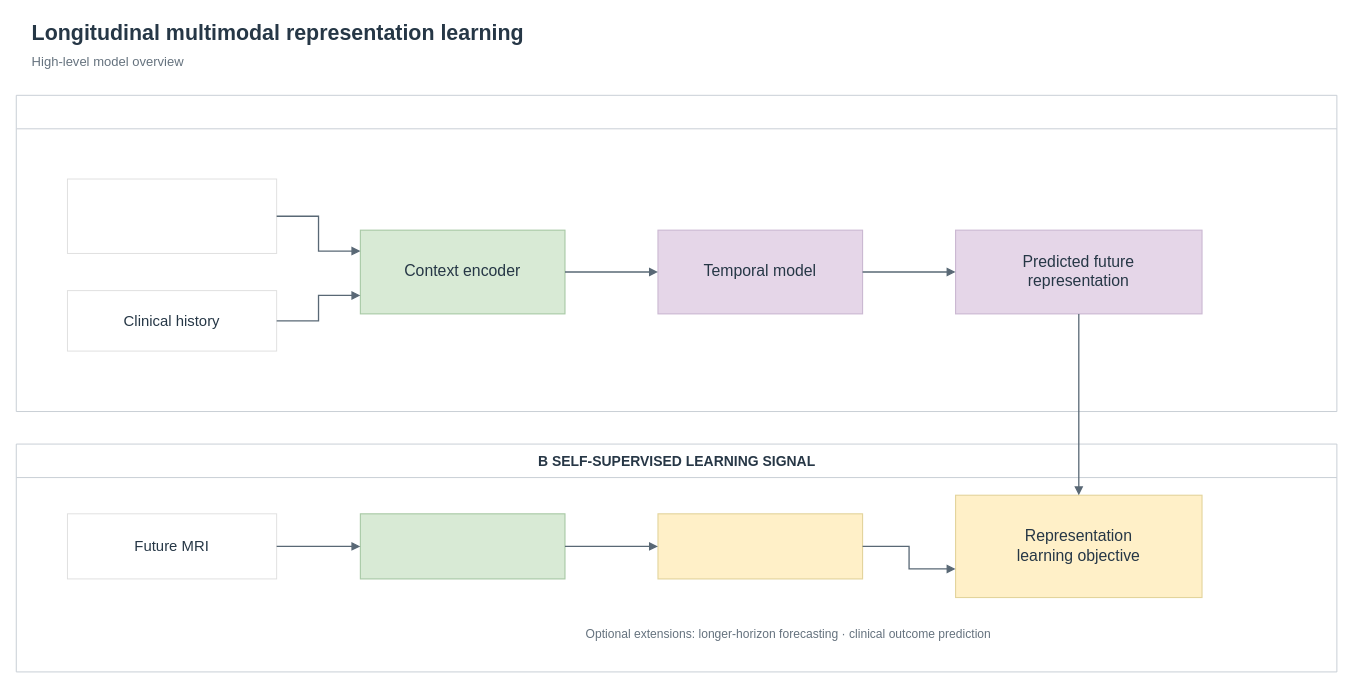
This 1353x688 diagram has some shape labels left out. Each missing label, with the box of its shape:
A CONTEXT AND PREDICTION: (15, 94, 1337, 412)
EMA target encoder: (359, 513, 565, 579)
Longitudinal MRI history: (66, 178, 277, 253)
Target representation: (657, 513, 863, 579)
